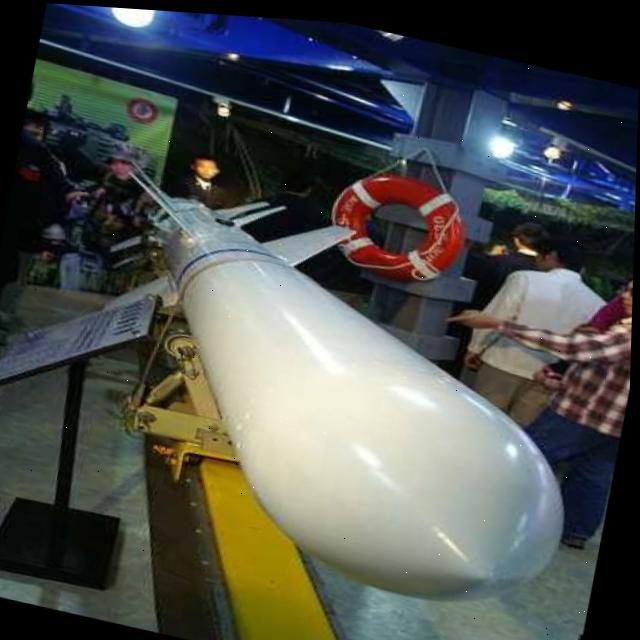missile: (64, 165, 609, 620)
